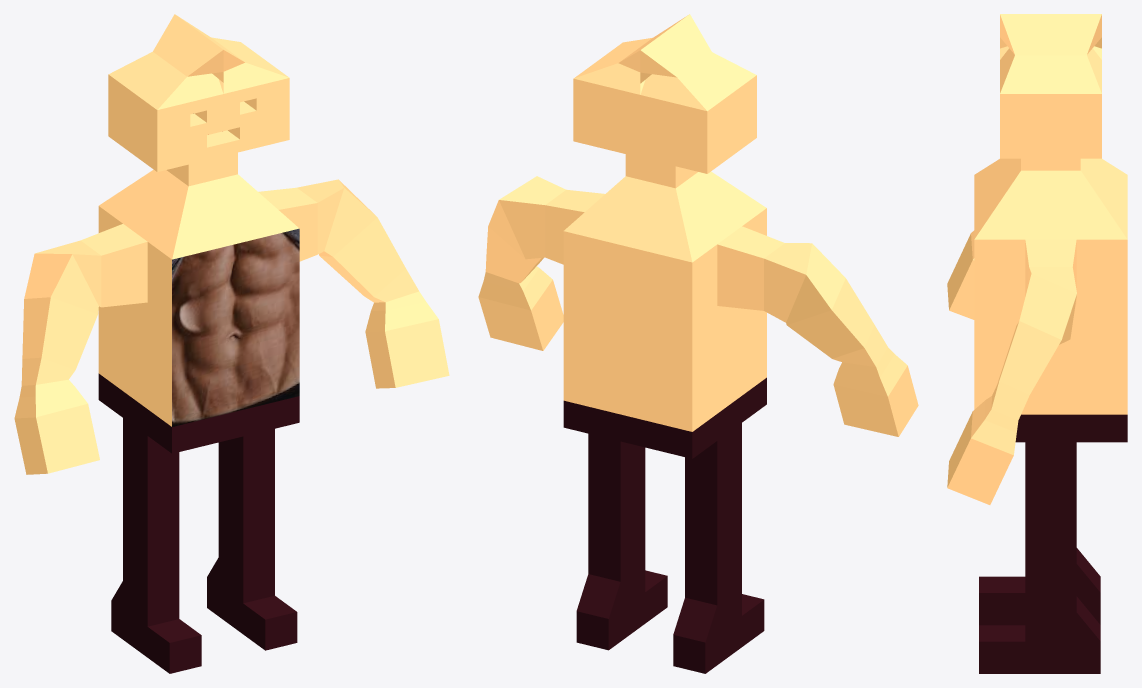
Rendered from CoreCity.gltf.
3 renders of one model, left to right at view 1: azimuth 30°, elevation 25°; view 2: azimuth 150°, elevation 25°; view 3: azimuth 270°, elevation 25°, orthographic. The views are drawn at different scales.
Parts seen in each view (by area): view 1: Cube.001; view 2: Cube.001; view 3: Cube.001.
Boxes of the visible parts, x1=… form: Cube.001: x1=14, y1=14, x2=449, y2=673; Cube.001: x1=478, y1=14, x2=918, y2=673; Cube.001: x1=947, y1=14, x2=1127, y2=673.
Bounding box in the file's own units: 1.19 × 1.69 × 0.4404.
5 materials, 1 textured.
